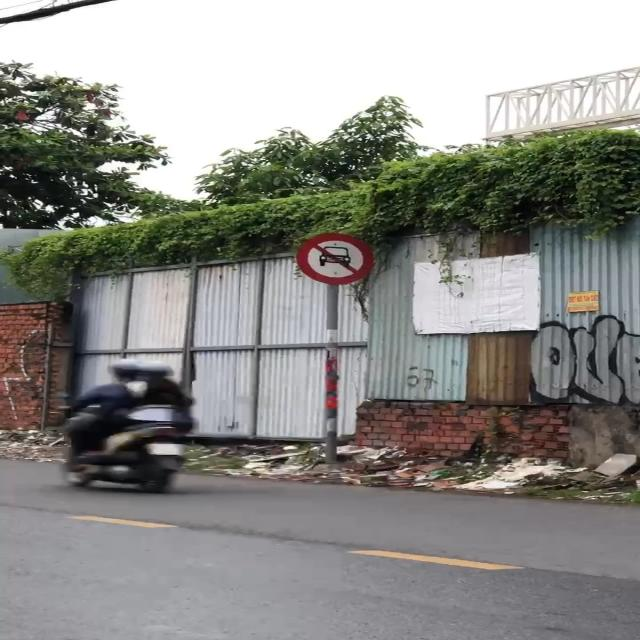Bien bao cam xe oto: (295, 231, 379, 285)
